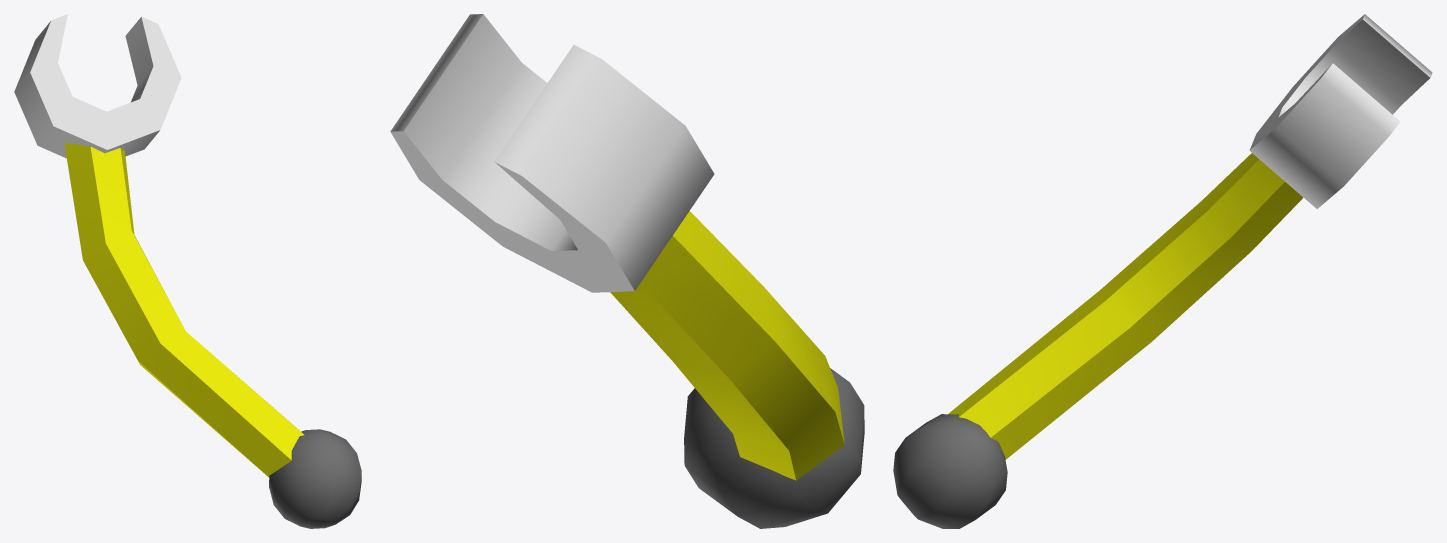
Rendered from Laundress_Hand_L.fbx.
3 renders of one model, left to right at view 1: azimuth 30°, elevation 25°; view 2: azimuth 150°, elevation 25°; view 3: azimuth 270°, elevation 25°, orthographic. The views are drawn at different scales.
Visible parts, largest first — view 1: Laundress_Hand_L; view 2: Laundress_Hand_L; view 3: Laundress_Hand_L.
Boxes of the visible parts, left/top/right/bottom form: Laundress_Hand_L: left=14, top=14, right=361, bottom=528; Laundress_Hand_L: left=390, top=14, right=864, bottom=528; Laundress_Hand_L: left=893, top=14, right=1432, bottom=528.
Bounding box in the file's own units: 31.98 × 74.8 × 78.86.
